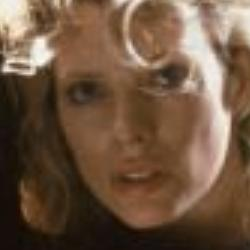face: (19, 1, 245, 237)
